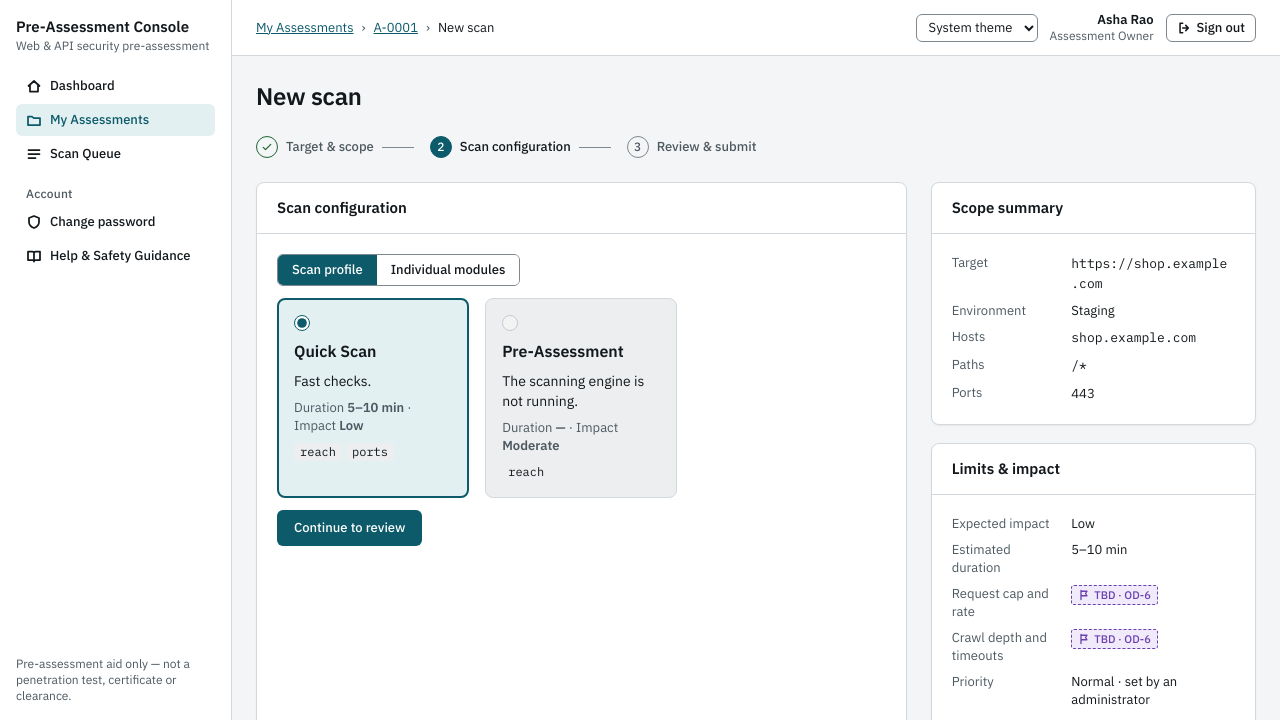
Test case: wizard keeps Submit disabled until authorization is checked
Click the button "Continue to review" at (350, 528), box [277,510,422,546]
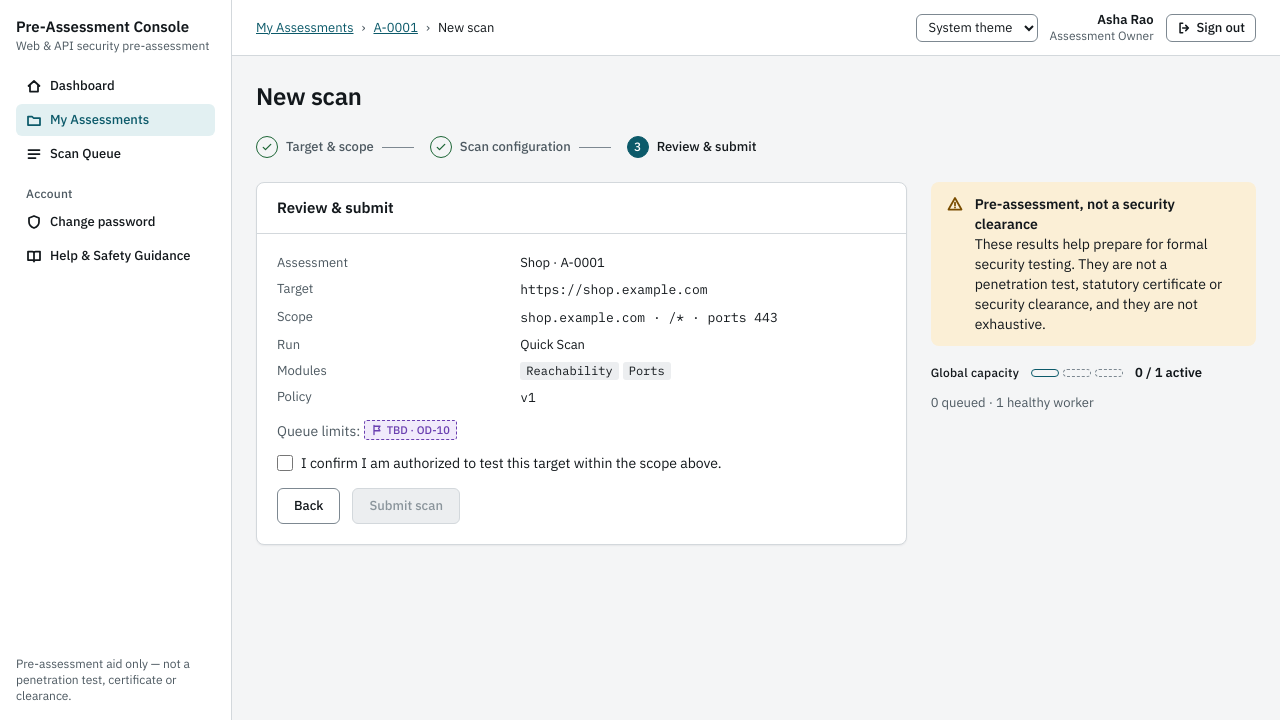
Expected: the button "Submit scan" is disabled, [352,488,460,524]
Click the checkbox labelled "I confirm I am authorized to test this target within the scope above." at (285, 463), box [277,455,293,471]
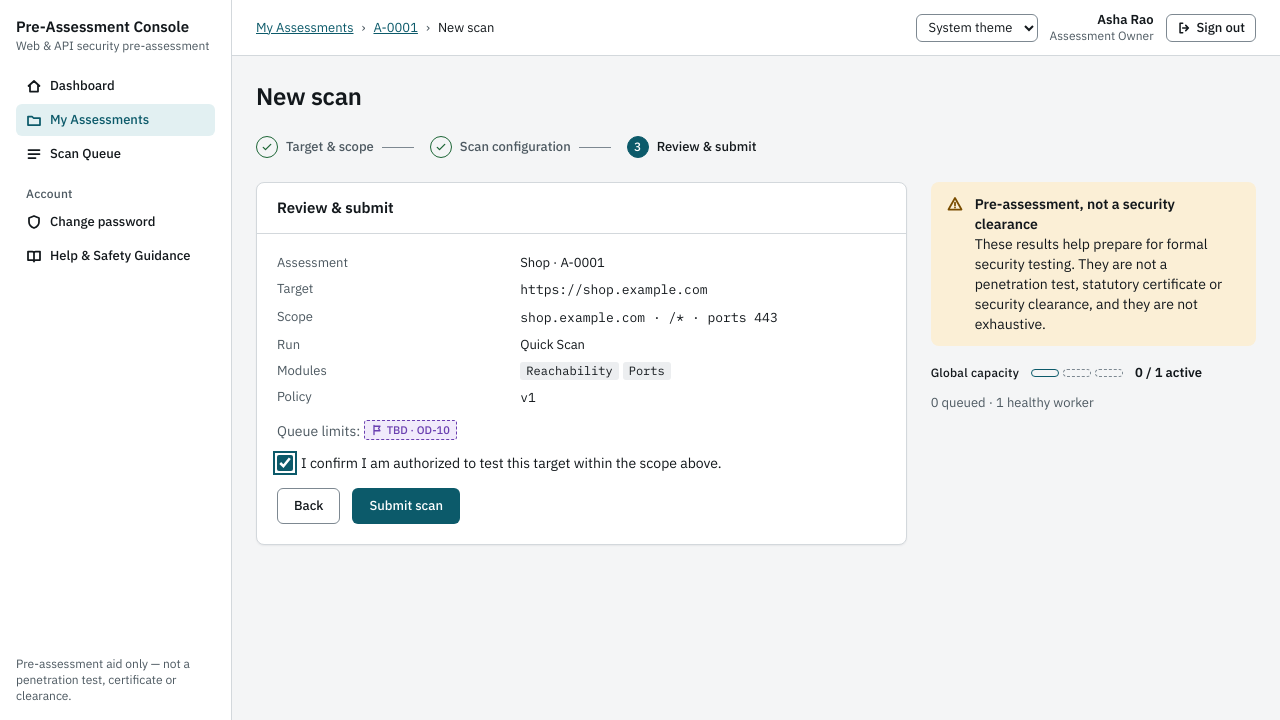
Now the button "Submit scan" is enabled, box [352,488,460,524]
